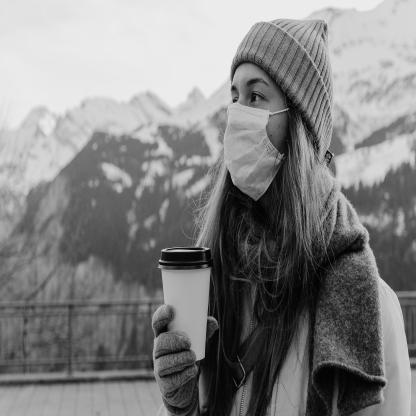dress: (167, 242, 409, 416), (229, 96, 298, 190)
